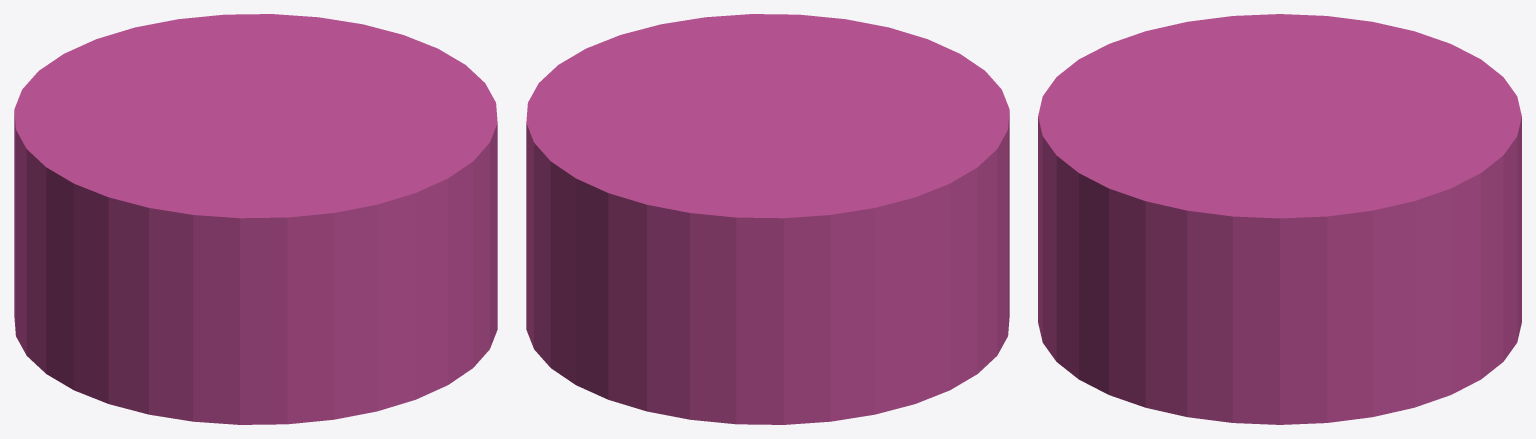
The model's file is bolocilindro  cobertura rosa.glb.
3 renders of one model, left to right at view 1: azimuth 30°, elevation 25°; view 2: azimuth 150°, elevation 25°; view 3: azimuth 270°, elevation 25°, orthographic.
Visible parts, largest first — view 1: Cylinder.003; view 2: Cylinder.003; view 3: Cylinder.003.
Part boxes in pixels (<box>): Cylinder.003: <box>14,14,497,424</box>; Cylinder.003: <box>526,14,1009,424</box>; Cylinder.003: <box>1038,14,1521,424</box>.
Bounding box in the file's own units: 2.76 × 1.3 × 2.76.
